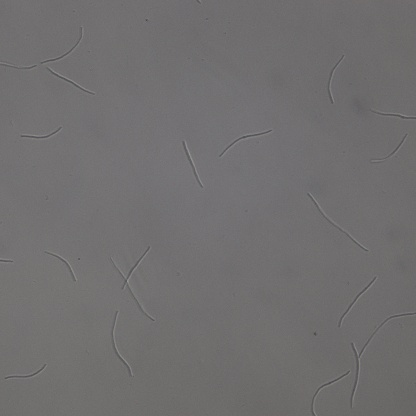Sensitive: (349, 312, 416, 410), (308, 194, 368, 251), (111, 244, 153, 320), (308, 371, 349, 416), (339, 277, 375, 325), (108, 311, 130, 375), (42, 27, 82, 62), (221, 129, 271, 155), (47, 68, 93, 94), (372, 134, 407, 162), (326, 55, 344, 103), (46, 251, 76, 279), (183, 142, 201, 188), (5, 364, 46, 381), (21, 127, 62, 140), (372, 110, 416, 121)
